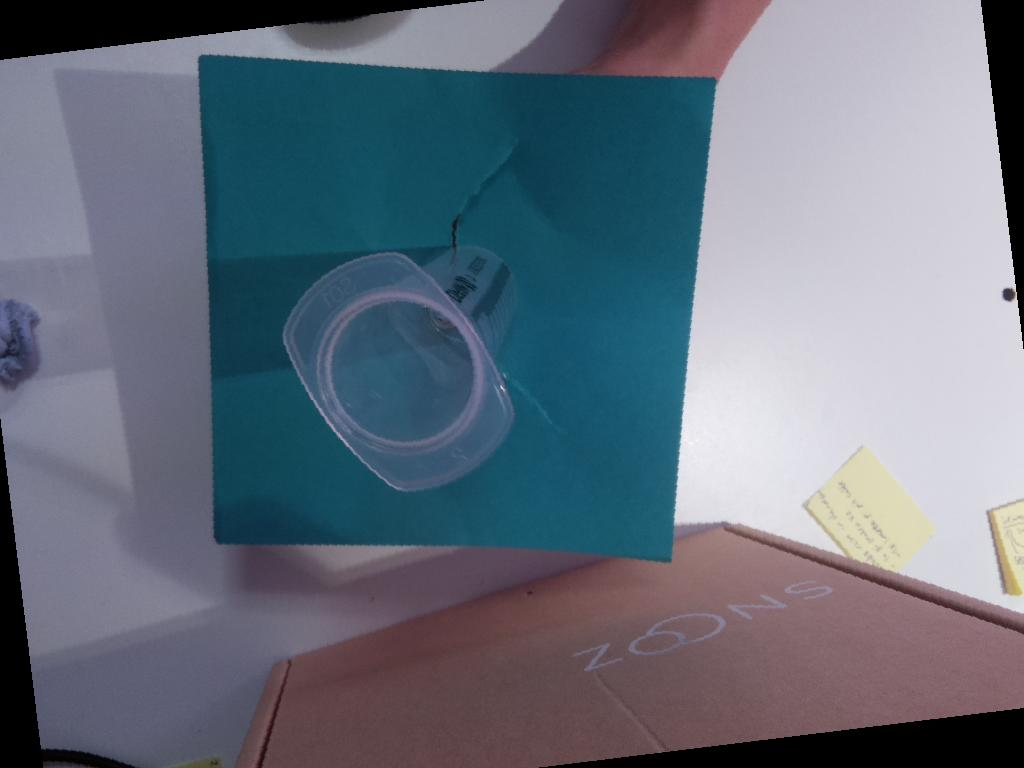clean: (281, 252, 516, 493)
